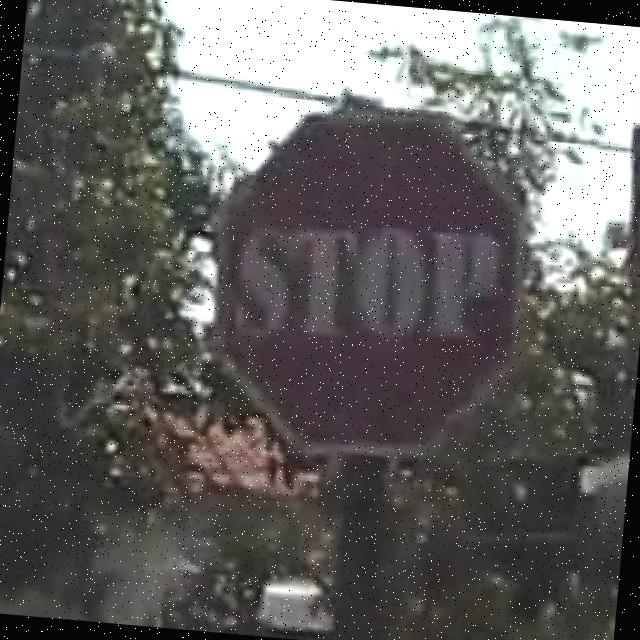Stop: (208, 110, 540, 464)
